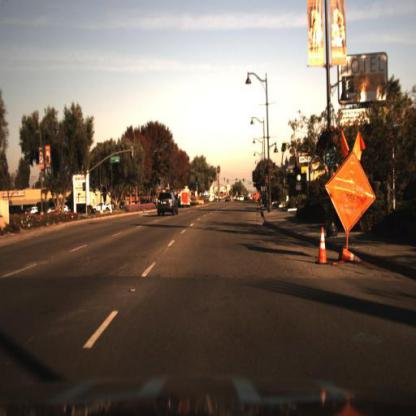car: (155, 190, 181, 219), (55, 201, 75, 222), (95, 199, 116, 215), (92, 201, 116, 214), (26, 200, 41, 220), (57, 204, 73, 217), (45, 203, 57, 219)
